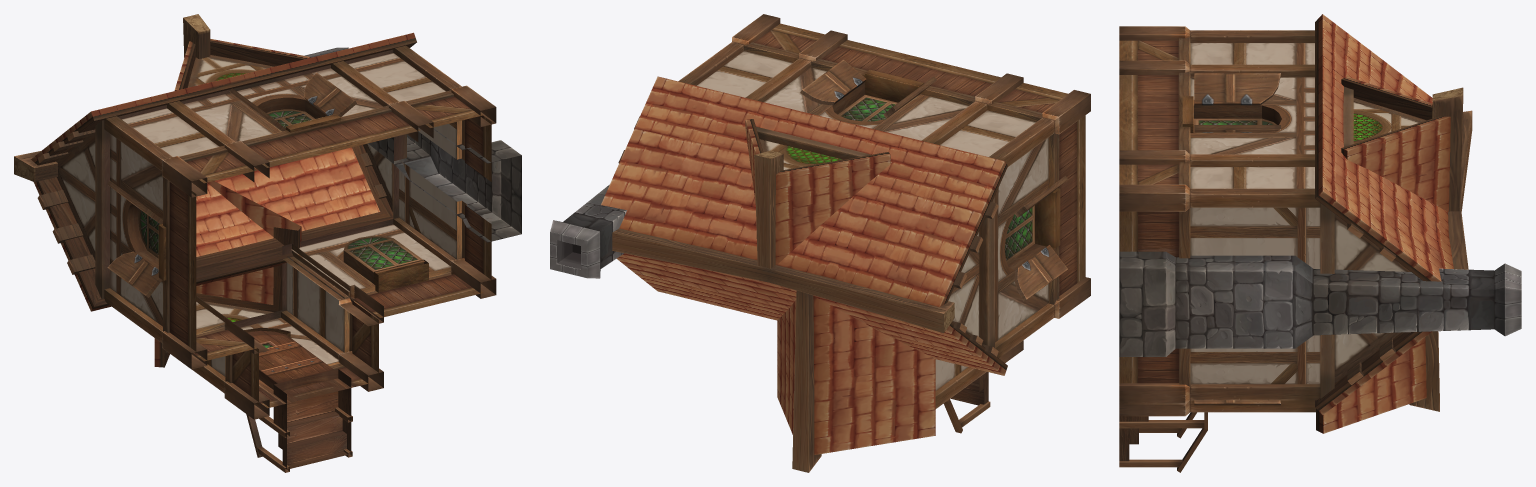
The model's file is House1.fbx.
The picture shows the model from 3 angles, left to right: view 1: azimuth 30°, elevation 25°; view 2: azimuth 150°, elevation 25°; view 3: azimuth 270°, elevation 25°; orthographic projection. The views are drawn at different scales.
Visible parts, largest first — view 1: House1; view 2: House1; view 3: House1.
Boxes of the visible parts, left/top/right/bottom form: House1: left=14, top=14, right=521, bottom=472; House1: left=550, top=14, right=1090, bottom=472; House1: left=1119, top=14, right=1521, bottom=472.
Size of what is drawn, in the model's own units: 8.21 by 7.5 by 7.26.
